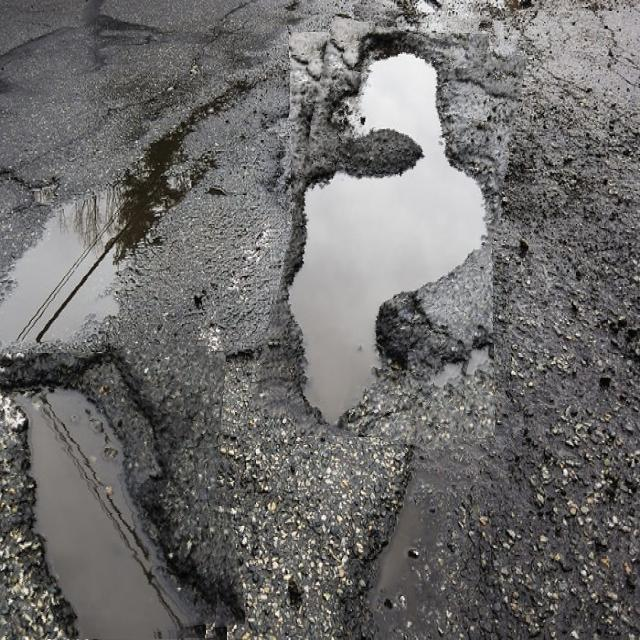Pothole: (269, 24, 509, 444), (0, 346, 236, 640)
